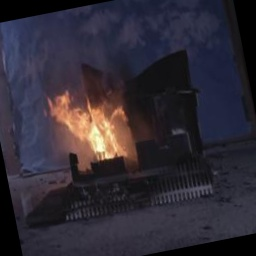fire: (38, 66, 139, 172)
